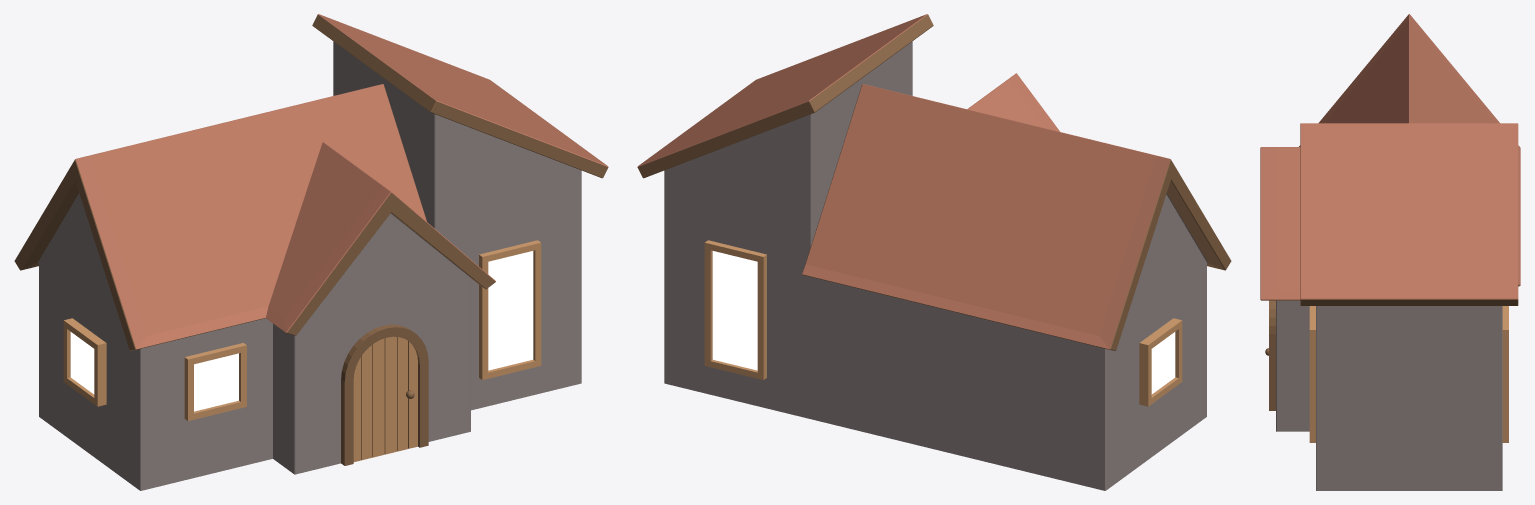
The model's file is SM_House_02.fbx.
3 renders of one model, left to right at view 1: azimuth 30°, elevation 25°; view 2: azimuth 150°, elevation 25°; view 3: azimuth 270°, elevation 25°, orthographic. The views are drawn at different scales.
Parts seen in each view (by area): view 1: SM_House_02, DoorCurved_01.001, WindowTall_01.002, WindowSmall_01.004, WindowSmall_01.005; view 2: SM_House_02, WindowTall_01.003, WindowSmall_01.005; view 3: SM_House_02, WindowTall_01.002, WindowTall_01.003, DoorCurved_01.001.
Boxes of the visible parts, left/top/right/bottom form: SM_House_02: left=14, top=14, right=608, bottom=490; DoorCurved_01.001: left=341, top=324, right=428, bottom=465; WindowTall_01.002: left=479, top=240, right=541, bottom=379; WindowSmall_01.004: left=184, top=343, right=246, bottom=420; WindowSmall_01.005: left=63, top=318, right=106, bottom=406; SM_House_02: left=637, top=14, right=1231, bottom=490; WindowTall_01.003: left=704, top=240, right=766, bottom=379; WindowSmall_01.005: left=1139, top=318, right=1182, bottom=406; SM_House_02: left=1260, top=14, right=1520, bottom=490; WindowTall_01.002: left=1309, top=306, right=1315, bottom=442; WindowTall_01.003: left=1502, top=306, right=1508, bottom=442; DoorCurved_01.001: left=1265, top=300, right=1275, bottom=410.
Size of the model in its own units: 806 by 529 by 418.
